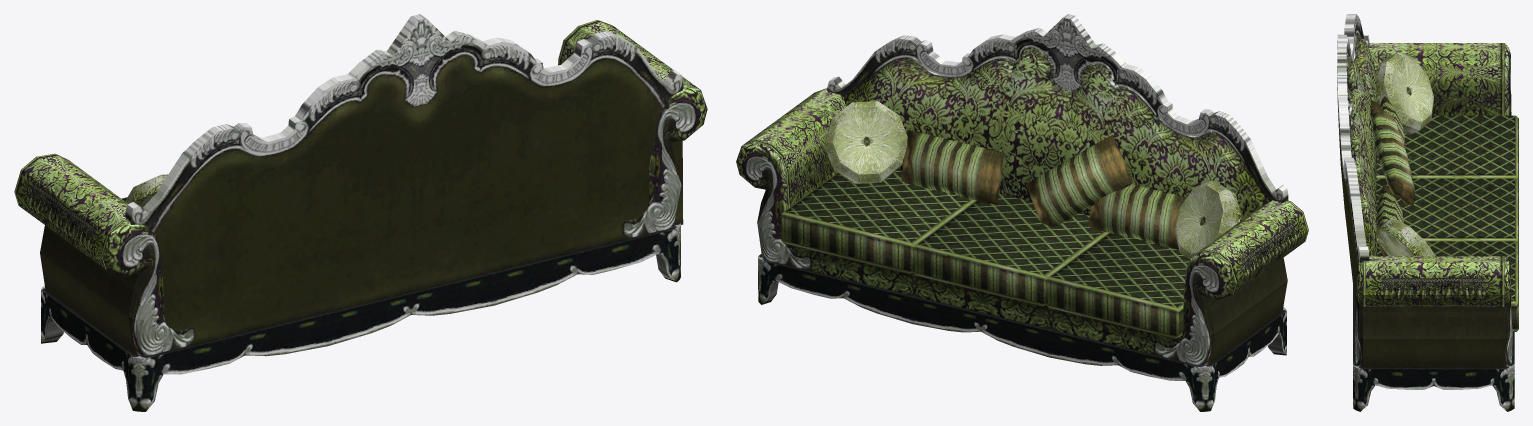
The model's file is furni_0201210_03.FBX.
3 views of the same model, side by side, from view 1: azimuth 30°, elevation 25°; view 2: azimuth 150°, elevation 25°; view 3: azimuth 270°, elevation 25° (orthographic). The views are drawn at different scales.
Visible parts, largest first — view 1: furni_0201210_03; view 2: furni_0201210_03; view 3: furni_0201210_03.
Part boxes in pixels (x1,y1,x2,y2): furni_0201210_03: (14, 14, 707, 411); furni_0201210_03: (736, 14, 1308, 411); furni_0201210_03: (1337, 14, 1518, 411).
Bounding box in the file's own units: 239 × 126 × 77.57.
